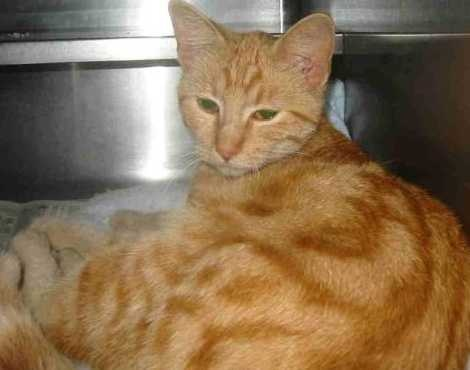Cat: (15, 0, 469, 369)
